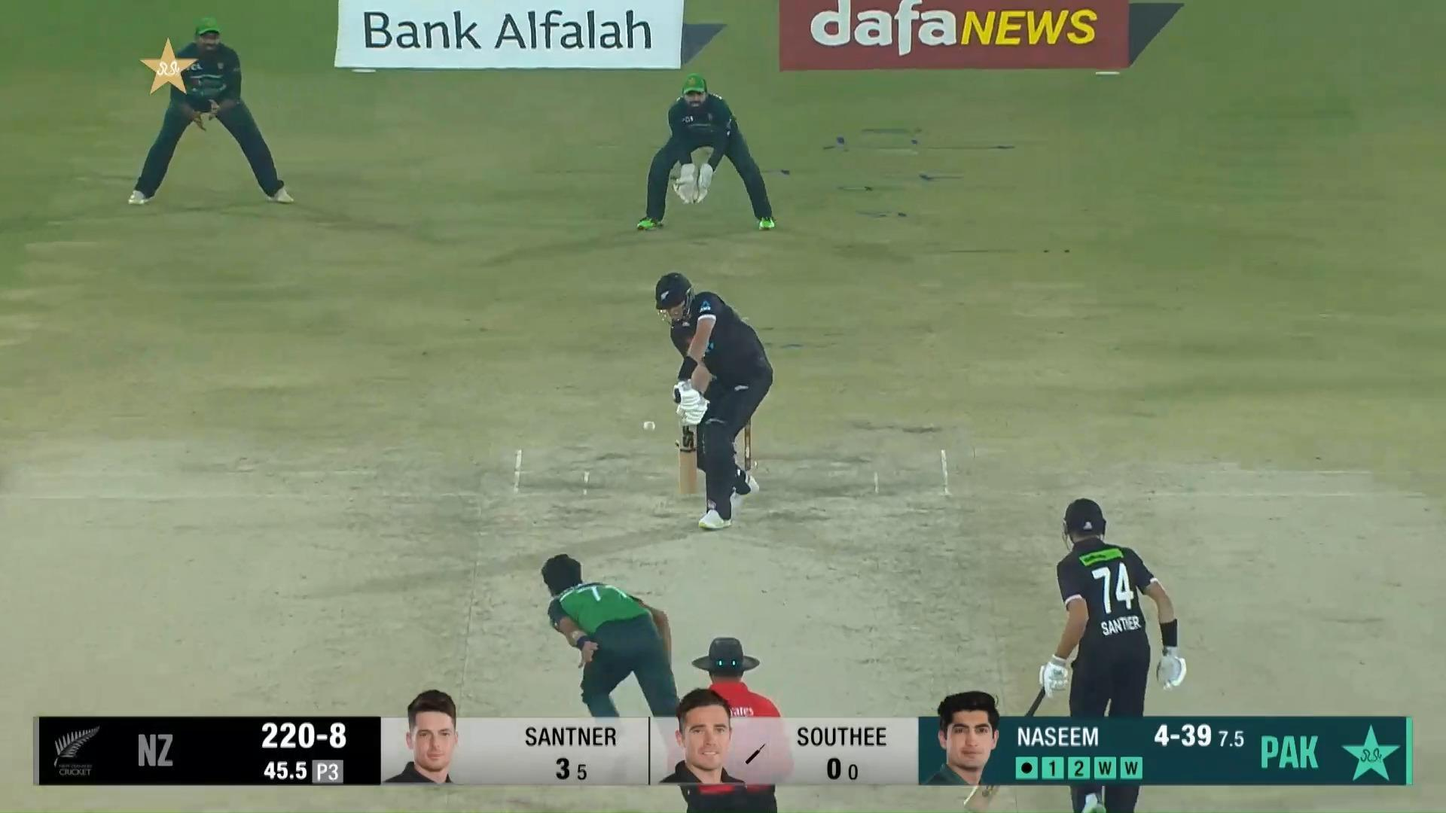BM 1: (655, 272, 774, 531)
BO: (541, 552, 681, 716)
